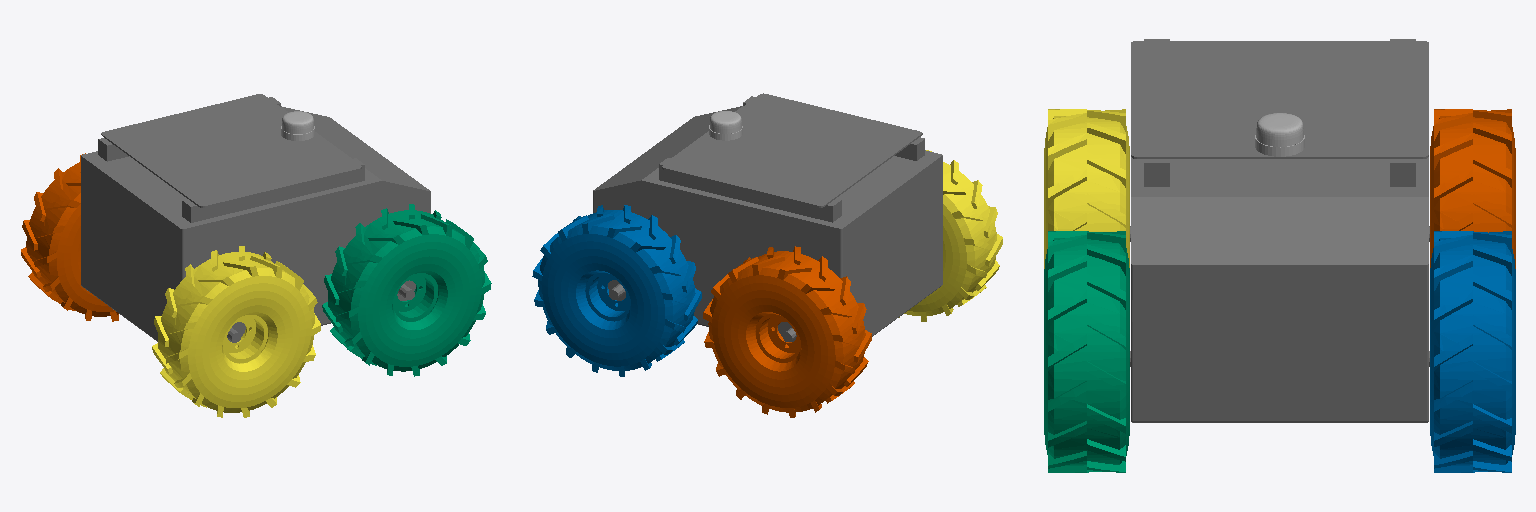
URDF robot description (copernicus):
<?xml version="1.0" encoding="utf-8"?>
<!-- =================================================================================== -->
<!-- |    This document was autogenerated by xacro from copernicus.xacro               | -->
<!-- |    EDITING THIS FILE BY HAND IS NOT RECOMMENDED                                 | -->
<!-- =================================================================================== -->
<!--

Copyright (c) 2021, Botsync Pte. Ltd.
All rights reserved.

Redistribution and use in source and binary forms, with or without
modification, are permitted provided that the following conditions are met:
    * Redistributions of source code must retain the above copyright
      notice, this list of conditions and the following disclaimer.
    * Redistributions in binary form must reproduce the above copyright
      notice, this list of conditions and the following disclaimer in the
      documentation and/or other materials provided with the distribution.
    * Neither the name of the Botsync Pte. Ltd. nor the 
      names of its contributors may be used to endorse or promote products
      derived from this software without specific prior written permission.

THIS SOFTWARE IS PROVIDED BY THE COPYRIGHT [author] "AS IS" AND
ANY EXPRESS OR IMPLIED WARRANTIES, INCLUDING, BUT NOT LIMITED TO, THE IMPLIED
WARRANTIES OF MERCHANTABILITY AND FITNESS FOR A PARTICULAR PURPOSE ARE
DISCLAIMED. IN NO EVENT SHALL <COPYRIGHT HOLDER> BE LIABLE FOR ANY
DIRECT, INDIRECT, INCIDENTAL, SPECIAL, EXEMPLARY, OR CONSEQUENTIAL DAMAGES
(INCLUDING, BUT NOT LIMITED TO, PROCUREMENT OF SUBSTITUTE GOODS OR SERVICES;
LOSS OF USE, DATA, OR PROFITS; OR BUSINESS INTERRUPTION) HOWEVER CAUSED AND
ON ANY THEORY OF LIABILITY, WHETHER IN CONTRACT, STRICT LIABILITY, OR TORT
(INCLUDING NEGLIGENCE OR OTHERWISE) ARISING IN ANY WAY OUT OF THE USE OF THIS
SOFTWARE, EVEN IF ADVISED OF THE POSSIBILITY OF SUCH DAMAGE.

-->
<robot name="copernicus">
<mujoco>
        <compiler meshdir="meshes"                  balanceinertia="true"                  strippath="false"/>
        <option collision="predefined" cone="elliptic" jacobian="sparse" tolerance="1e-6" iterations="30" solver="CG" timestep="0.002"/>
</mujoco>
  <material name="blue">
    <color rgba="0 0 0.8 1"/>
  </material>
  <material name="white">
    <color rgba="1 1 1 1"/>
  </material>
  <material name="gray">
    <color rgba="0.5 0.5 0.5 1"/>
  </material>
  <!--<xacro:arg name="camera_enabled" default="false"/>
    <xacro:arg name="intel_d435i_enabled" default="false"/>-->
  <!-- Footprint -->
  <link name="footprint"/>
  <!-- Joint from footprint to base link(chassis) -->
  <joint name="base_footprint_joint" type="fixed">
    <origin rpy="0 0 0" xyz="0 0 0"/>
    <parent link="base_link"/>
    <child link="footprint"/>
  </joint>
  <!-- Chassis a.k.a base_link -->
  <link name="base_link">
    <visual>
      <origin rpy="0 0 0" xyz="0 0 0"/>
      <geometry>
        <mesh filename="copernicus.stl" scale="0.1 0.1 0.1"/>
      </geometry>
      <material name="gray"/>
    </visual>
    <collision>
      <origin rpy="0 0 0" xyz="0 0 0"/>
      <geometry>
        <mesh filename="copernicus.stl" scale="0.1 0.1 0.1"/>
      </geometry>
    </collision>
    <inertial>
      <mass value="5.674"/>
      <inertia ixx="3.28" ixy="0.0" ixz="0.0" iyy="3.69" iyz="0.0" izz="2.26"/>
    </inertial>
  </link>
  <!-- Wheel Link -->
  <link name="front_right_wheel">
    <visual>
      <origin rpy="0 0 0" xyz="0 0 0"/>
      <geometry>
        <mesh filename="wheel.stl" scale="0.1 0.1 0.1"/>
      </geometry>
      <material name="black"/>
    </visual>
    <collision>
      <origin rpy="0 0 0" xyz="0 0 0"/>
      <geometry>
        <mesh filename="wheel.stl" scale="0.1 0.1 0.1"/><!--<cylinder length="0.12" radius="0.18"/>-->
      </geometry>
    </collision>
    <inertial>
      <mass value="2.637"/>
      <origin xyz="0 0 0"/>
      <inertia ixx="0.739" ixy="0.17" ixz="0.236" iyy="0.741" iyz="0.299" izz="0.46"/>
    </inertial>
  </link>
  <!-- Wheel Joint -->
  <joint name="front_right_wheel_joint" type="continuous">
    <parent link="base_link"/>
    <child link="front_right_wheel"/>
    <origin rpy="0 0 0" xyz="0.2203 -0.2949 0.073"/>
    <axis xyz="0 1 0"/>
  </joint>
  <!-- Wheel Transmission -->
  <!-- <transmission name="front_right_wheel_transmission" type="SimpleTransmission">
    <type>transmission_interface/SimpleTransmission</type>
    <joint name="front_right_wheel_joint">
      <hardwareInterface>hardware_interface/VelocityJointInterface</hardwareInterface>
    </joint>
    <actuator name="front_right_motor">
      <mechanicalReduction>1</mechanicalReduction>
    </actuator>
  </transmission> -->
  <!-- Wheel Link -->
  <link name="back_right_wheel">
    <visual>
      <origin rpy="0 0 0" xyz="0 0 0"/>
      <geometry>
        <mesh filename="wheel.stl" scale="0.1 0.1 0.1"/>
      </geometry>
      <material name="black"/>
    </visual>
    <collision>
      <origin rpy="0 0 0" xyz="0 0 0"/>
      <geometry>
        <mesh filename="wheel.stl" scale="0.1 0.1 0.1"/><!--<cylinder length="0.12" radius="0.18"/>-->
      </geometry>
    </collision>
    <inertial>
      <mass value="2.637"/>
      <origin xyz="0 0 0"/>
      <inertia ixx="0.739" ixy="0.17" ixz="0.236" iyy="0.741" iyz="0.299" izz="0.46"/>
    </inertial>
  </link>
  <!-- Wheel Joint -->
  <joint name="back_right_wheel_joint" type="continuous">
    <parent link="base_link"/>
    <child link="back_right_wheel"/>
    <origin rpy="0 0 0" xyz="-0.2203 -0.2949 0.073"/>
    <axis xyz="0 1 0"/>
  </joint>
  <!-- Wheel Transmission -->
  <!-- <transmission name="back_right_wheel_transmission" type="SimpleTransmission">
    <type>transmission_interface/SimpleTransmission</type>
    <joint name="back_right_wheel_joint">
      <hardwareInterface>hardware_interface/VelocityJointInterface</hardwareInterface>
    </joint>
    <actuator name="back_right_motor">
      <mechanicalReduction>1</mechanicalReduction>
    </actuator>
  </transmission> -->
  <!-- Wheel Link -->
  <link name="front_left_wheel">
    <visual>
      <origin rpy="0 0 0" xyz="0 0 0"/>
      <geometry>
        <mesh filename="wheel.stl" scale="0.1 0.1 0.1"/>
      </geometry>
      <material name="black"/>
    </visual>
    <collision>
      <origin rpy="0 0 0" xyz="0 0 0"/>
      <geometry>
        <mesh filename="wheel.stl" scale="0.1 0.1 0.1"/><!--<cylinder length="0.12" radius="0.18"/>-->
      </geometry>
    </collision>
    <inertial>
      <mass value="2.637"/>
      <origin xyz="0 0 0"/>
      <inertia ixx="0.739" ixy="0.17" ixz="0.236" iyy="0.741" iyz="0.299" izz="0.46"/>
    </inertial>
  </link>
  <!-- Wheel Joint -->
  <joint name="front_left_wheel_joint" type="continuous">
    <parent link="base_link"/>
    <child link="front_left_wheel"/>
    <origin rpy="0 0 0" xyz="0.2203 0.2949 0.073"/>
    <axis xyz="0 1 0"/>
  </joint>
  <!-- Wheel Transmission -->
  <!-- <transmission name="front_left_wheel_transmission" type="SimpleTransmission">
    <type>transmission_interface/SimpleTransmission</type>
    <joint name="front_left_wheel_joint">
      <hardwareInterface>hardware_interface/VelocityJointInterface</hardwareInterface>
    </joint>
    <actuator name="front_left_motor">
      <mechanicalReduction>1</mechanicalReduction>
    </actuator>
  </transmission> -->
  <!-- Wheel Link -->
  <link name="back_left_wheel">
    <visual>
      <origin rpy="0 0 0" xyz="0 0 0"/>
      <geometry>
        <mesh filename="wheel.stl" scale="0.1 0.1 0.1"/>
      </geometry>
      <material name="black"/>
    </visual>
    <collision>
      <origin rpy="0 0 0" xyz="0 0 0"/>
      <geometry>
        <mesh filename="wheel.stl" scale="0.1 0.1 0.1"/><!--<cylinder length="0.12" radius="0.18"/>-->
      </geometry>
    </collision>
    <inertial>
      <mass value="2.637"/>
      <origin xyz="0 0 0"/>
      <inertia ixx="0.739" ixy="0.17" ixz="0.236" iyy="0.741" iyz="0.299" izz="0.46"/>
    </inertial>
  </link>
  <!-- Wheel Joint -->
  <joint name="back_left_wheel_joint" type="continuous">
    <parent link="base_link"/>
    <child link="back_left_wheel"/>
    <origin rpy="0 0 0" xyz="-0.2203 0.2949 0.073"/>
    <axis xyz="0 1 0"/>
  </joint>
  <!-- Wheel Transmission -->
  <!-- <transmission name="back_left_wheel_transmission" type="SimpleTransmission">
    <type>transmission_interface/SimpleTransmission</type>
    <joint name="back_left_wheel_joint">
      <hardwareInterface>hardware_interface/VelocityJointInterface</hardwareInterface>
    </joint>
    <actuator name="back_left_motor">
      <mechanicalReduction>1</mechanicalReduction>
    </actuator>
  </transmission> -->
  <joint name="imu_joint" type="fixed">
    <parent link="base_link"/>
    <child link="imu"/>
    <origin rpy="0 0 0" xyz="0 0 0.11457"/>
  </joint>
  <link name="imu">
    <inertial>
      <mass value="0.001"/>
      <origin rpy="0 0 0" xyz="0 0 0"/>
      <inertia ixx="1e-09" ixy="0.0" ixz="0.0" iyy="1e-09" iyz="0.0" izz="1e-09"/>
    </inertial>
  </link>
  <!-- lidar link -->
  <link name="lidar">
    <visual>
      <origin rpy="0 0 0.785398" xyz="-0.018 0 -0.03"/>
      <geometry>
        <mesh filename="rplidar.stl"/>
      </geometry>
    </visual>
    <collision>
      <origin rpy="0 0 0" xyz="-0.018 0 -0.03"/>
      <geometry>
        <mesh filename="rplidar.stl"/>
      </geometry>
    </collision>
    <inertial>
      <origin rpy="0 0 0" xyz="-0.018 0 -0.005"/>
      <mass value="0.3"/>
      <inertia ixx="0.00028" ixy="0.0" ixz="0.0" iyy="0.00028" iyz="0.0" izz="0.00022"/>
    </inertial>
  </link>
  <!-- lidar joint -->
  <joint name="lidar_joint" type="fixed">
    <origin rpy="0 0 0" xyz="0.127 0.0 0.395"/>
    <parent link="base_link"/>
    <child link="lidar"/>
  </joint>
  <!-- CAMERA -->
  <!--<xacro:if value="$(arg camera_enabled)">
            <xacro:include filename="$(find copernicus_description)/urdf/accessories/camera_copernicus.urdf.xacro"/>
            <xacro:camera_ intel_d435i_enabled="$(arg intel_d435i_enabled)" robot_namespace="$(arg robot_namespace)"></xacro:camera_>
        </xacro:if>-->
  <!--ROBOT GAZEBO TAG-->
</robot>

--- Facts derived from the render (not from the file) ---
Views: 3 orthographic renders of the robot side by side, from view 1: azimuth 30°, elevation 25°; view 2: azimuth 150°, elevation 25°; view 3: azimuth 270°, elevation 25°.
Robot: copernicus — 8 links, 7 joints (4 continuous, 3 fixed); root link base_link; default pose: every joint at zero.
Links seen in each view (by area): view 1: base_link, back_right_wheel, front_right_wheel, back_left_wheel, lidar; view 2: base_link, back_left_wheel, front_left_wheel, back_right_wheel, lidar; view 3: base_link, front_right_wheel, front_left_wheel, back_left_wheel, back_right_wheel, lidar.
Boxes of the visible links, box(x1,y1,x2,y2) form: base_link: box(81, 94, 430, 342); back_right_wheel: box(152, 246, 320, 417); front_right_wheel: box(322, 204, 491, 376); back_left_wheel: box(21, 153, 118, 321); lidar: box(281, 111, 314, 140); base_link: box(593, 93, 942, 341); back_left_wheel: box(703, 246, 871, 417); front_left_wheel: box(532, 205, 701, 376); back_right_wheel: box(899, 150, 1002, 321); lidar: box(709, 111, 742, 140); base_link: box(1130, 39, 1429, 422); front_right_wheel: box(1044, 231, 1129, 472); front_left_wheel: box(1430, 231, 1515, 472); back_left_wheel: box(1430, 109, 1515, 268); back_right_wheel: box(1044, 109, 1129, 268); lidar: box(1255, 113, 1304, 156).
Bounding box of the posed robot: 0.8106 × 0.72 × 0.523 m (x, y, z).
6 mesh visuals loaded from 3 distinct referenced files (3 binary STL).
